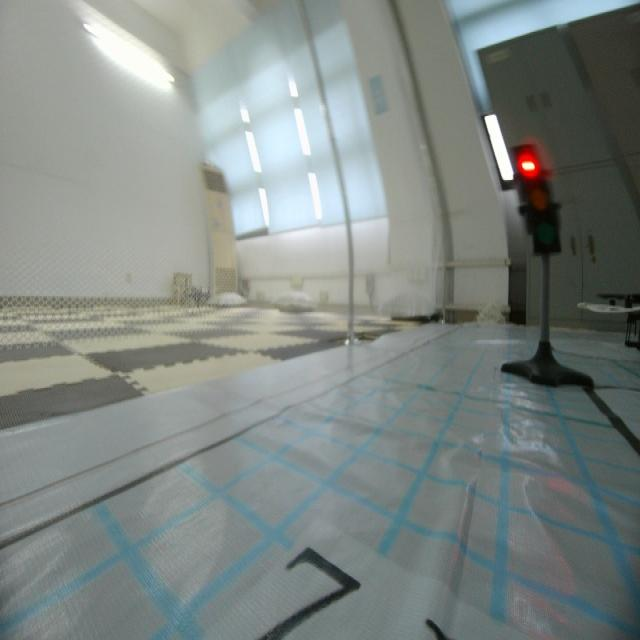red: (507, 143, 567, 256)
